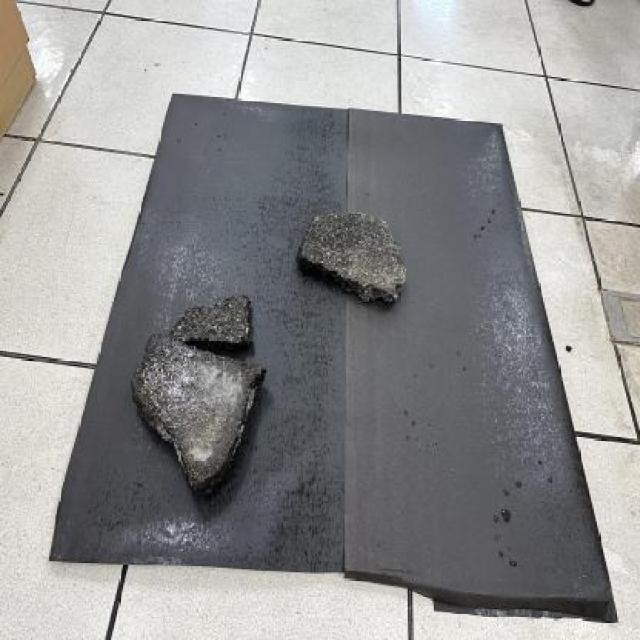Road Debris: (262, 398, 322, 546), (148, 173, 227, 264), (222, 225, 258, 347)
